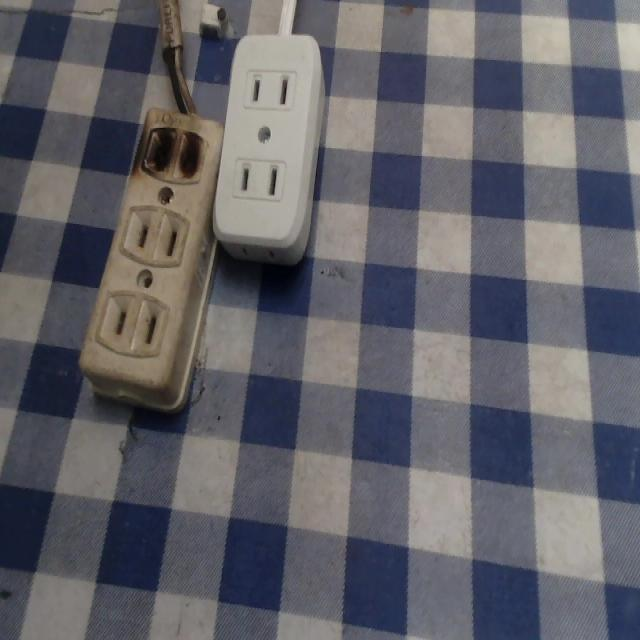-: (135, 114, 212, 186)
